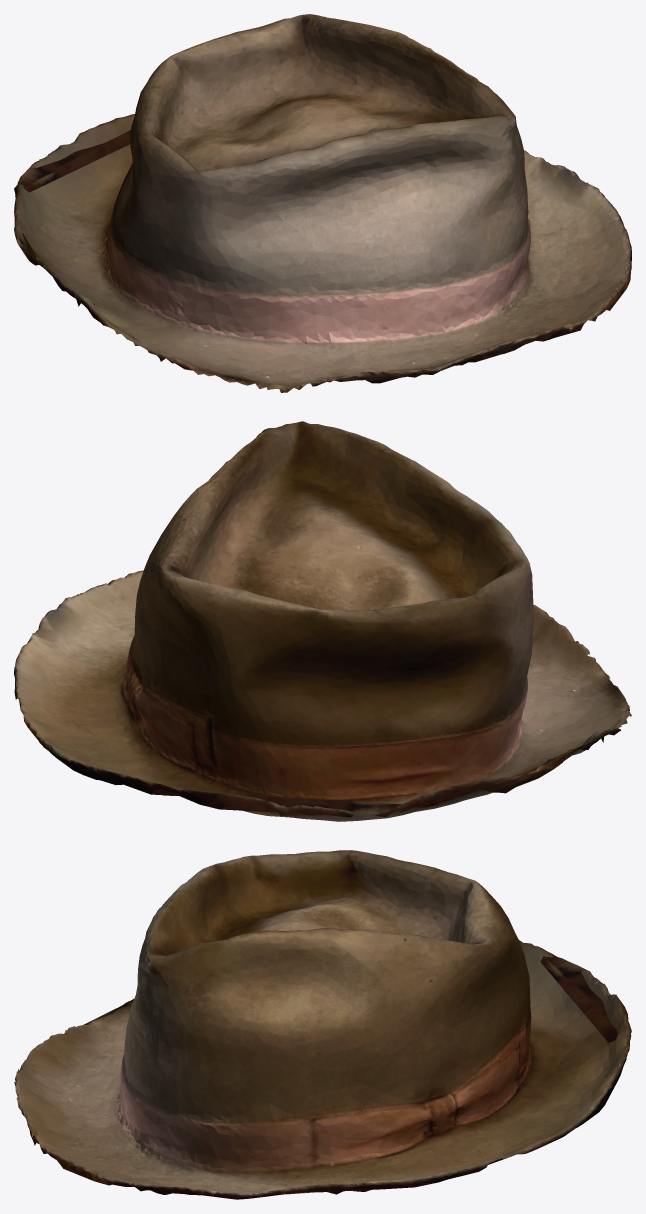
Rendered from chapeu.gltf.
3 views of the same model, one above another, from view 1: azimuth 30°, elevation 25°; view 2: azimuth 150°, elevation 25°; view 3: azimuth 270°, elevation 25° (orthographic). The views are drawn at different scales.
Parts seen in each view (by area): view 1: model_Chapeu_paulo_20250207_224606267; view 2: model_Chapeu_paulo_20250207_224606267; view 3: model_Chapeu_paulo_20250207_224606267.
Boxes of the visible parts, x1=… form: model_Chapeu_paulo_20250207_224606267: x1=14, y1=14, x2=631, y2=392; model_Chapeu_paulo_20250207_224606267: x1=14, y1=421, x2=631, y2=821; model_Chapeu_paulo_20250207_224606267: x1=14, y1=850, x2=631, y2=1199.
Size of the model in its own units: 0.9831 by 0.3944 by 1.
1 material, 1 textured.
